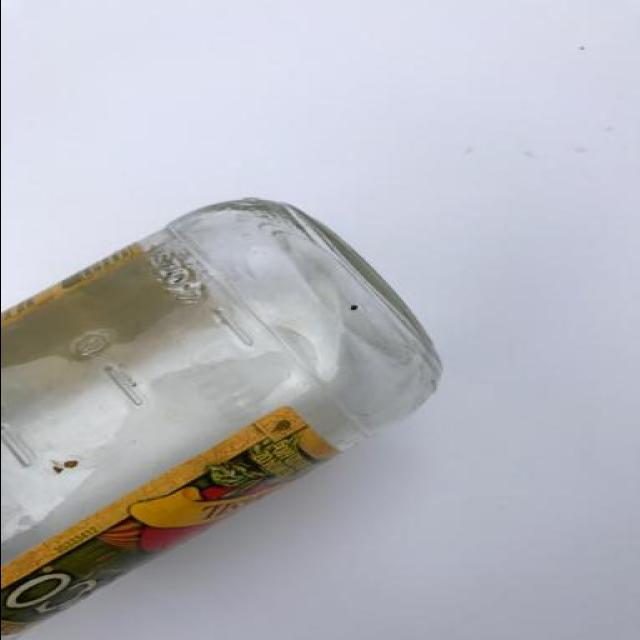glass: (1, 196, 444, 640)
